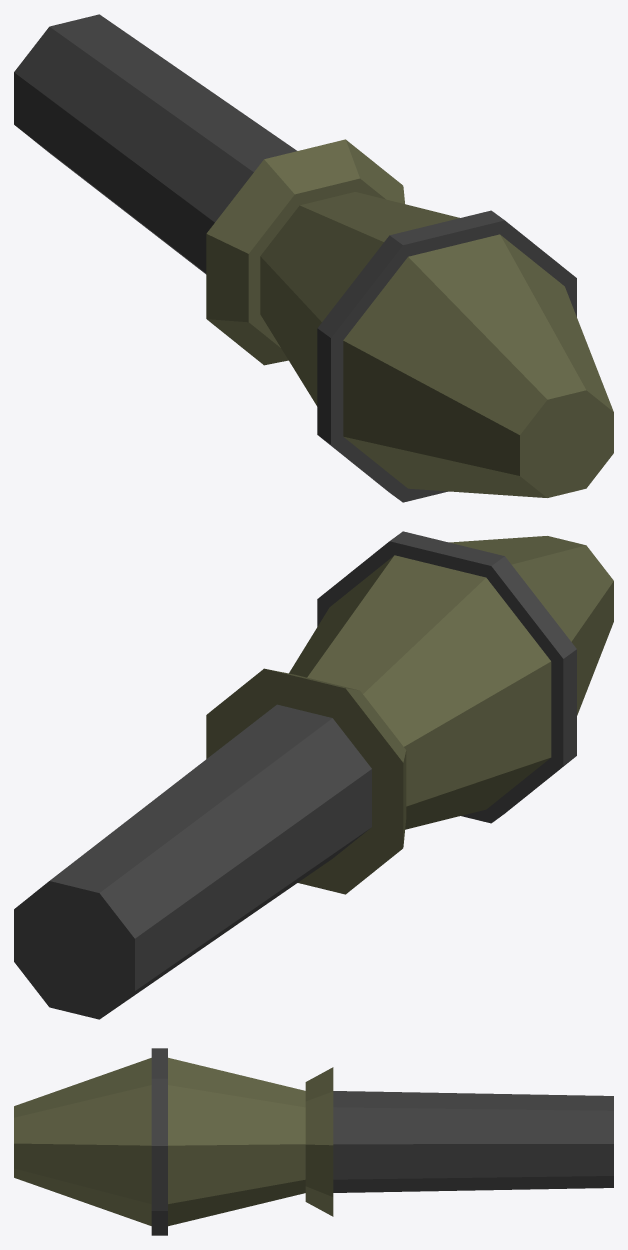
The model's file is ammo_rocket.fbx.
The picture shows the model from 3 angles, top to bottom: view 1: azimuth 30°, elevation 25°; view 2: azimuth 150°, elevation 25°; view 3: azimuth 270°, elevation 25°; orthographic projection. The views are drawn at different scales.
Parts seen in each view (by area): view 1: Mesh1_Group1 Model; view 2: Mesh1_Group1 Model; view 3: Mesh1_Group1 Model.
Part boxes in pixels (x1,y1,x2,y2): Mesh1_Group1 Model: (14, 14, 613, 502); Mesh1_Group1 Model: (14, 531, 613, 1019); Mesh1_Group1 Model: (14, 1048, 613, 1235).
Bounding box in the file's own units: 0.0189 × 0.0189 × 0.0654.
